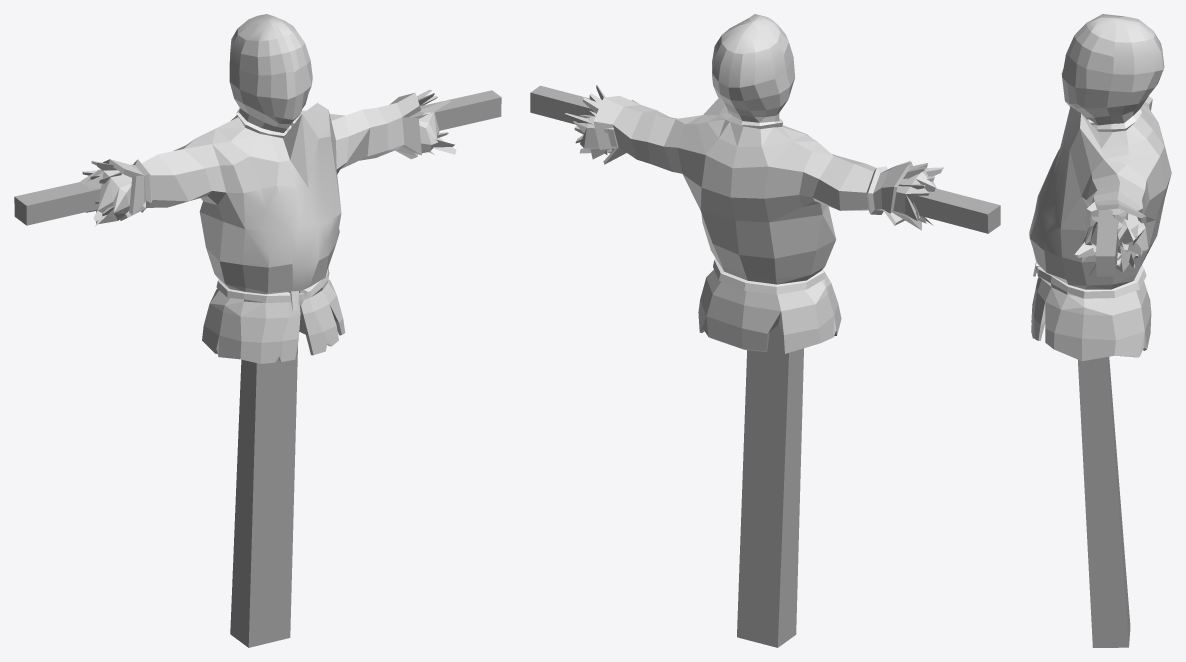
Rendered from PT_Practice_Dummy_01.fbx.
3 views of the same model, side by side, from view 1: azimuth 30°, elevation 25°; view 2: azimuth 150°, elevation 25°; view 3: azimuth 270°, elevation 25° (orthographic). The views are drawn at different scales.
Parts seen in each view (by area): view 1: PT_Practice_Dummy_01; view 2: PT_Practice_Dummy_01; view 3: PT_Practice_Dummy_01.
Boxes of the visible parts, box(x1,y1,x2,y2) form: PT_Practice_Dummy_01: box(14, 14, 501, 647); PT_Practice_Dummy_01: box(530, 14, 1000, 647); PT_Practice_Dummy_01: box(1029, 14, 1171, 647).
Size of the model in its own units: 140 by 176 by 36.26.
Materials: 1 (1 with a texture image).
